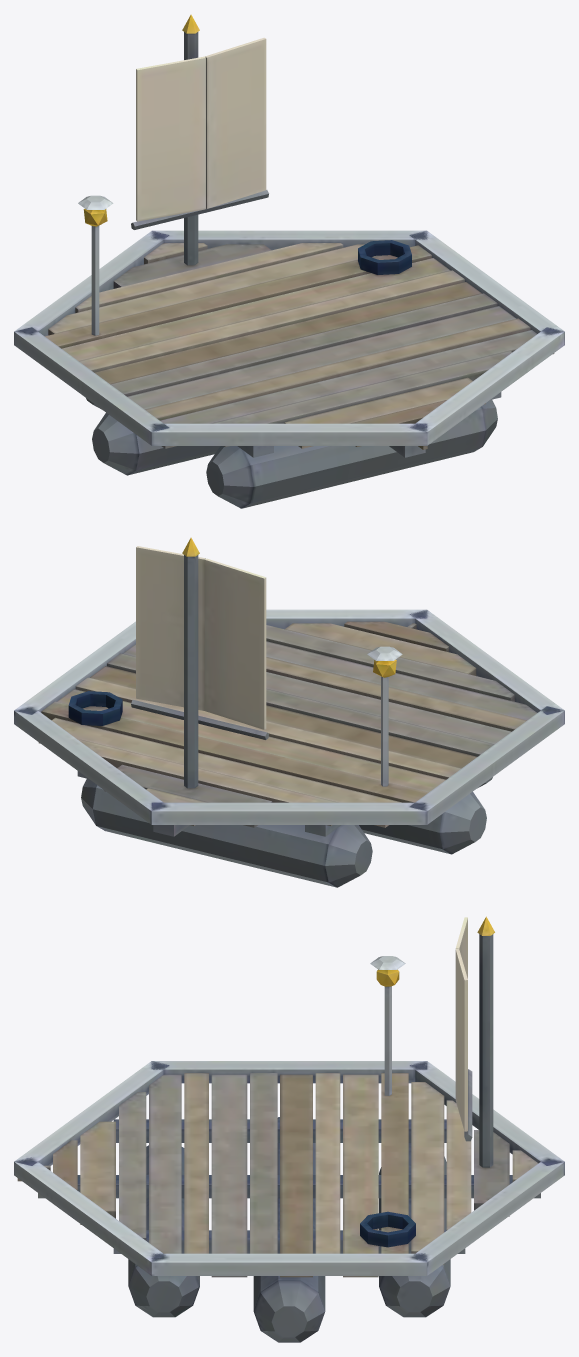
The model's file is raft-a-age20.glb.
The picture shows the model from 3 angles, top to bottom: view 1: azimuth 30°, elevation 25°; view 2: azimuth 150°, elevation 25°; view 3: azimuth 270°, elevation 25°; orthographic projection.
Parts seen in each view (by area): view 1: raft-a-age20; view 2: raft-a-age20; view 3: raft-a-age20.
Boxes of the visible parts, <box> form: raft-a-age20: <box>14,14,564,508</box>; raft-a-age20: <box>14,537,564,887</box>; raft-a-age20: <box>14,916,564,1342</box>.
Bounding box in the file's own units: 1.6 × 1.27 × 1.85.
Materials: 1 (1 with a texture image).
